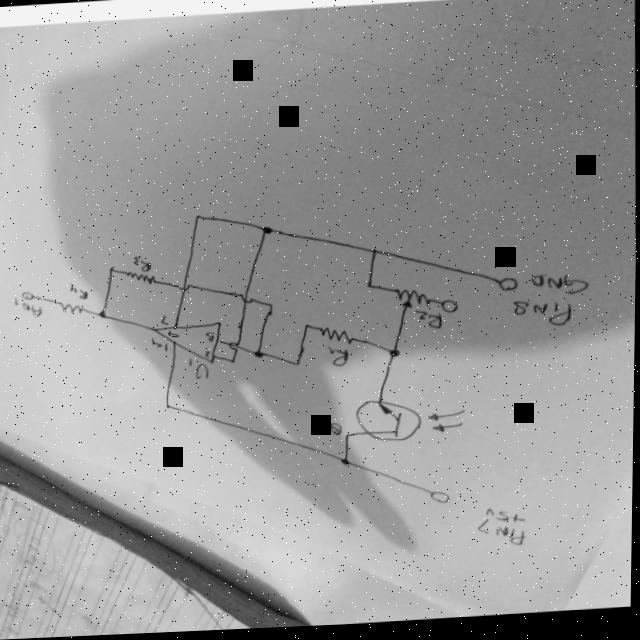crossover: (228, 339, 242, 356), (239, 293, 254, 307), (177, 282, 192, 296)
junction: (389, 350, 400, 361), (302, 323, 313, 334), (163, 401, 174, 412), (369, 249, 380, 260), (106, 264, 117, 275), (339, 459, 351, 469), (364, 283, 376, 293), (343, 433, 354, 443), (291, 360, 302, 370), (255, 351, 266, 361), (226, 358, 237, 368), (265, 303, 276, 313), (263, 227, 274, 237), (193, 213, 204, 223), (97, 310, 108, 320)
resistor: (392, 288, 432, 315), (320, 326, 355, 350), (125, 266, 157, 289), (60, 299, 86, 317)
terminal: (429, 490, 452, 509), (439, 300, 459, 319), (498, 279, 518, 298), (19, 289, 36, 303)
text: (511, 273, 595, 335), (476, 507, 531, 554), (414, 308, 444, 336), (13, 295, 42, 317), (187, 356, 210, 383), (317, 418, 343, 439), (329, 347, 349, 370), (68, 281, 89, 302), (133, 254, 151, 275), (150, 337, 170, 354), (204, 331, 216, 345), (167, 328, 180, 340), (160, 314, 169, 328), (204, 351, 211, 361)
transistor: (353, 395, 468, 449)
